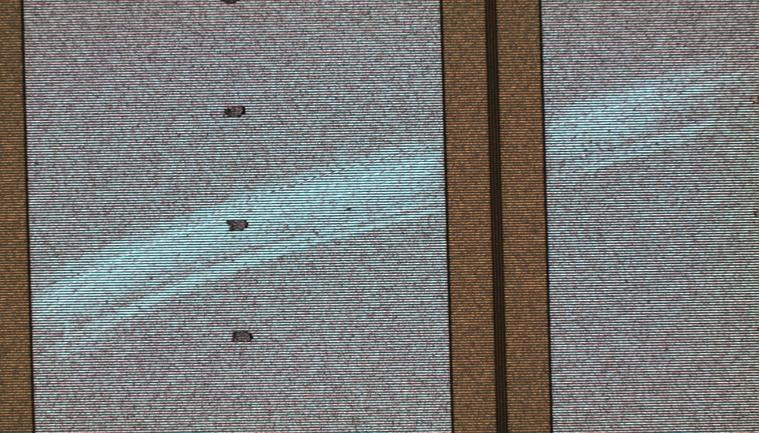SCRATCH: (32, 59, 759, 385)
